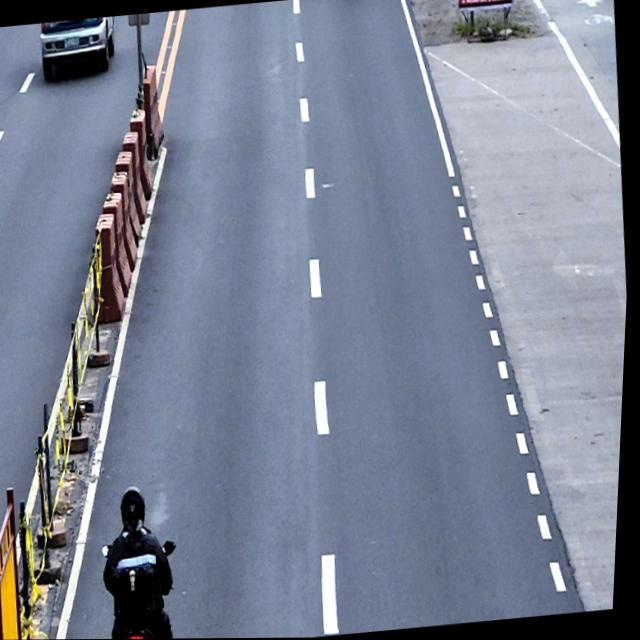Car: (36, 16, 118, 80)
License-Plate: (62, 36, 81, 49)
Motorcycle: (102, 536, 189, 639)
